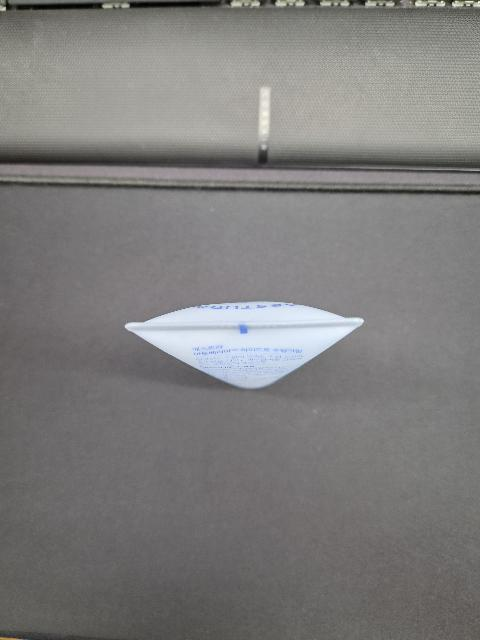handcream: (124, 301, 364, 388)
